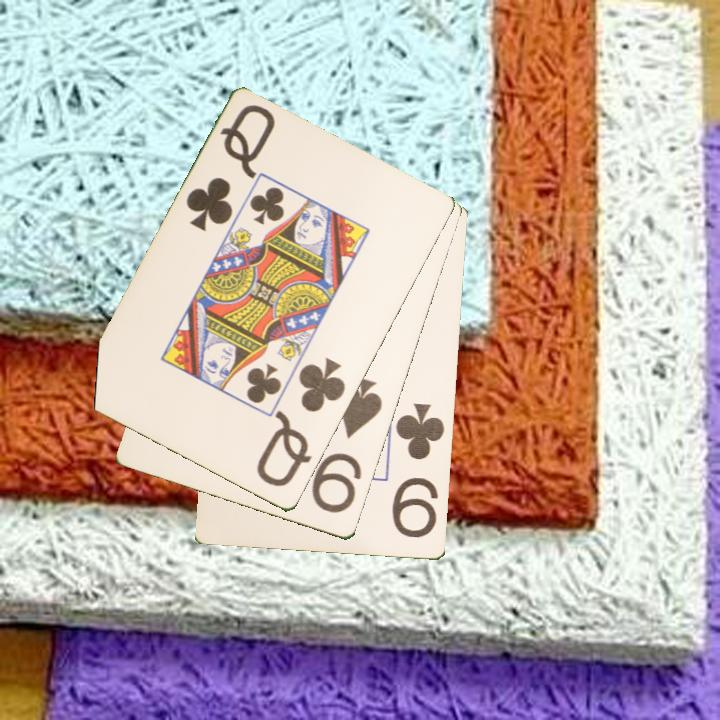9c: (389, 399, 448, 542)
9s: (308, 374, 386, 517)
Qc: (253, 354, 349, 491), (182, 101, 279, 235)
